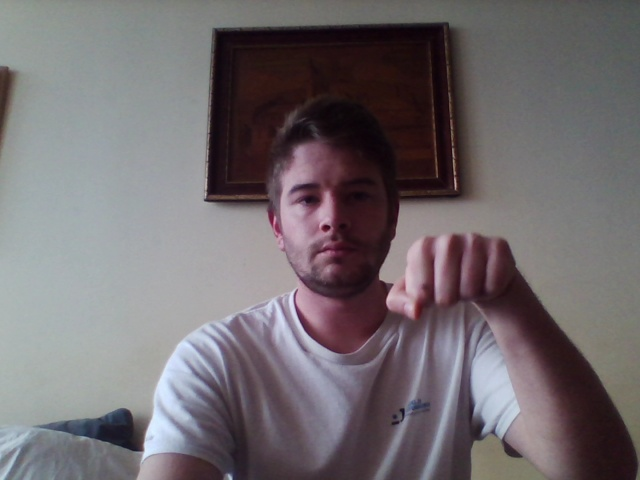da: (386, 229, 517, 322)
